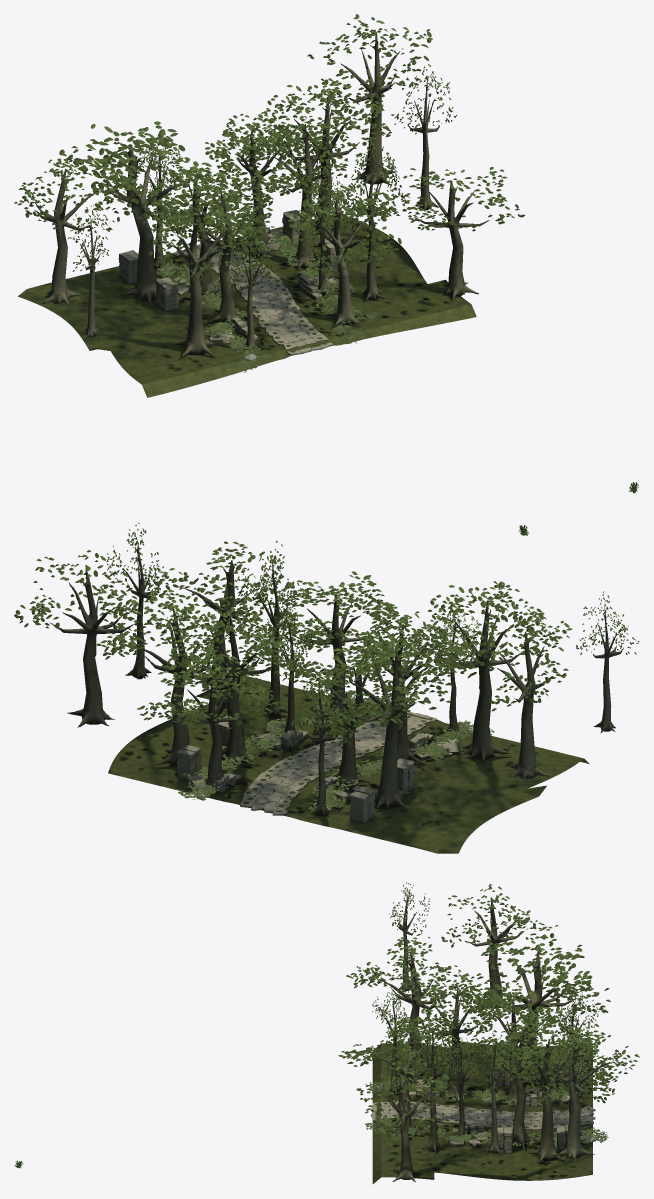
File: approach.glb
3 renders of one model, top to bottom at view 1: azimuth 30°, elevation 25°; view 2: azimuth 150°, elevation 25°; view 3: azimuth 270°, elevation 25°, orthographic. The views are drawn at different scales.
Parts seen in each view (by area): view 1: ForestApproach_Foliage_Cell_-1_-3, ForestApproach_Wood_Cell_-1_-3, ForestApproach_Foliage_Cell_-1_-2, ForestApproach_Ground_Cell_-1_-3, ForestApproach_Ground_Cell_-1_-2, ForestApproach_Stone_Cell_-1_-3, ForestApproach_Wood_Cell_-1_-2, ForestApproach_Foliage_Cell_0_-3, ForestApproach_Wood_Cell_0_-3, ForestApproach_Ground_Cell_-2_-3, ForestApproach_Ground_Cell_-2_-2, ForestApproach_Ground_Cell_0_-3 (+10 smaller); view 2: ForestApproach_Foliage_Cell_-1_-3, ForestApproach_Ground_Cell_-1_-3, ForestApproach_Wood_Cell_-1_-3, ForestApproach_Stone_Cell_-1_-3, ForestApproach_Foliage_Cell_-1_-2, ForestApproach_Foliage_Cell_0_-3, ForestApproach_Wood_Cell_0_-3, ForestApproach_Wood_Cell_-1_-2, ForestApproach_Ground_Cell_-2_-3, ForestApproach_Ground_Cell_0_-3, ForestApproach_Ground_Cell_-1_-2, PD11_Foliage_forest-approach_Cell_-1_-3 (+10 smaller); view 3: ForestApproach_Foliage_Cell_-1_-3, ForestApproach_Foliage_Cell_-1_-2, ForestApproach_Wood_Cell_-1_-3, ForestApproach_Ground_Cell_-1_-3, ForestApproach_Stone_Cell_-1_-3, ForestApproach_Foliage_Cell_0_-3, ForestApproach_Wood_Cell_0_-3, ForestApproach_Ground_Cell_0_-3, ForestApproach_Wood_Cell_-1_-2, ForestApproach_Ground_Cell_-1_-2, ForestApproach_Foliage_Cell_-2_-3, ForestApproach_Foliage_Cell_0_-2 (+10 smaller).
Part boxes in pixels (x1=…): ForestApproach_Foliage_Cell_-1_-3: x1=82, y1=84, x2=375, y2=245; ForestApproach_Wood_Cell_-1_-3: x1=105, y1=119, x2=366, y2=323; ForestApproach_Foliage_Cell_-1_-2: x1=164, y1=137, x2=401, y2=288; ForestApproach_Ground_Cell_-1_-3: x1=65, y1=226, x2=384, y2=346; ForestApproach_Ground_Cell_-1_-2: x1=154, y1=289, x2=421, y2=383; ForestApproach_Stone_Cell_-1_-3: x1=118, y1=210, x2=354, y2=318; ForestApproach_Wood_Cell_-1_-2: x1=171, y1=152, x2=389, y2=357; ForestApproach_Foliage_Cell_0_-3: x1=282, y1=14, x2=456, y2=205; ForestApproach_Wood_Cell_0_-3: x1=309, y1=32, x2=441, y2=246; ForestApproach_Ground_Cell_-2_-3: x1=17, y1=280, x2=164, y2=355; ForestApproach_Ground_Cell_-2_-2: x1=114, y1=342, x2=201, y2=397; ForestApproach_Ground_Cell_0_-3: x1=312, y1=215, x2=424, y2=290; ForestApproach_Foliage_Cell_-1_-3: x1=150, y1=565, x2=484, y2=746; ForestApproach_Ground_Cell_-1_-3: x1=166, y1=717, x2=495, y2=843; ForestApproach_Wood_Cell_-1_-3: x1=175, y1=599, x2=431, y2=815; ForestApproach_Stone_Cell_-1_-3: x1=177, y1=716, x2=431, y2=823; ForestApproach_Foliage_Cell_-1_-2: x1=259, y1=541, x2=531, y2=678; ForestApproach_Foliage_Cell_0_-3: x1=14, y1=522, x2=252, y2=720; ForestApproach_Wood_Cell_0_-3: x1=49, y1=539, x2=199, y2=765; ForestApproach_Wood_Cell_-1_-2: x1=257, y1=562, x2=517, y2=763; ForestApproach_Ground_Cell_-2_-3: x1=399, y1=774, x2=546, y2=853; ForestApproach_Ground_Cell_0_-3: x1=108, y1=704, x2=263, y2=787; ForestApproach_Ground_Cell_-1_-2: x1=246, y1=687, x2=520, y2=771; PD11_Foliage_forest-approach_Cell_-1_-3: x1=178, y1=718, x2=439, y2=811; ForestApproach_Foliage_Cell_-1_-3: x1=441, y1=925, x2=626, y2=1098; ForestApproach_Foliage_Cell_-1_-2: x1=338, y1=934, x2=442, y2=1093; ForestApproach_Wood_Cell_-1_-3: x1=441, y1=951, x2=604, y2=1152; ForestApproach_Ground_Cell_-1_-3: x1=443, y1=1062, x2=592, y2=1159; ForestApproach_Stone_Cell_-1_-3: x1=441, y1=1060, x2=595, y2=1153; ForestApproach_Foliage_Cell_0_-3: x1=440, y1=1022, x2=639, y2=1103; ForestApproach_Wood_Cell_0_-3: x1=486, y1=1036, x2=609, y2=1163; ForestApproach_Ground_Cell_0_-3: x1=443, y1=1151, x2=592, y2=1180; ForestApproach_Wood_Cell_-1_-2: x1=376, y1=952, x2=443, y2=1152; ForestApproach_Ground_Cell_-1_-2: x1=372, y1=1065, x2=442, y2=1159; ForestApproach_Foliage_Cell_-2_-3: x1=441, y1=884, x2=584, y2=981; ForestApproach_Foliage_Cell_0_-2: x1=356, y1=1043, x2=442, y2=1137.
Size of the model in its own units: 51.16 by 21.85 by 71.02.
4 materials, 3 textured.
